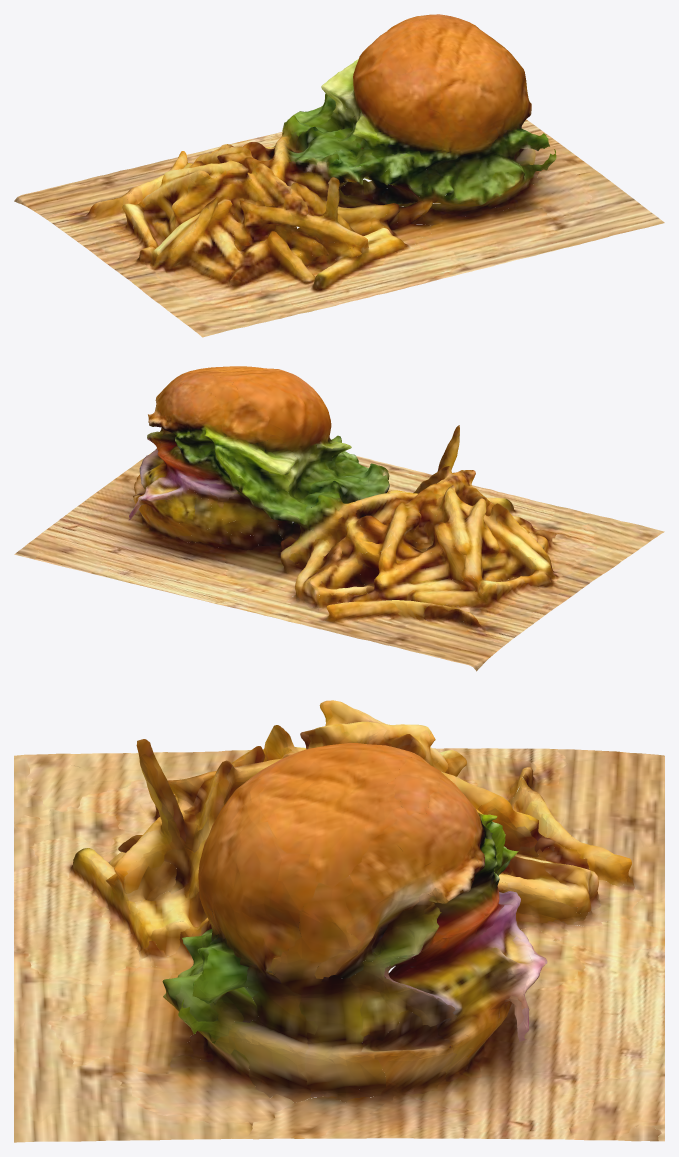
File: burger-and-fries.glb
The picture shows the model from 3 angles, top to bottom: view 1: azimuth 30°, elevation 25°; view 2: azimuth 150°, elevation 25°; view 3: azimuth 270°, elevation 25°; orthographic projection. The views are drawn at different scales.
Parts seen in each view (by area): view 1: Object_2, Object_3; view 2: Object_2, Object_3; view 3: Object_2, Object_3.
Part boxes in pixels (box(x1,y1,x2,y2)): Object_2: box(14, 17, 664, 337); Object_3: box(92, 14, 542, 272); Object_2: box(14, 366, 664, 671); Object_3: box(16, 374, 549, 628); Object_2: box(14, 702, 664, 1142); Object_3: box(106, 700, 661, 1141).
Size of the model in its own units: 0.32 by 0.104 by 0.2258.
Materials: 1 (1 with a texture image).
